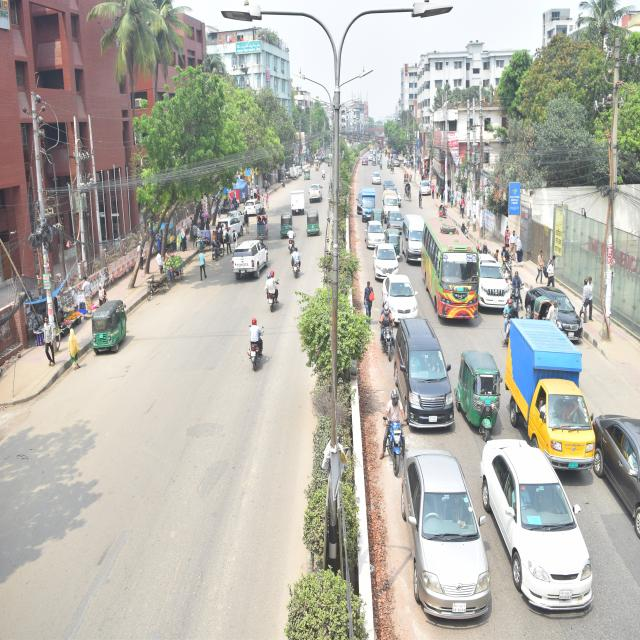bus: (420, 222, 484, 322)
car: (479, 428, 597, 624), (403, 445, 492, 630), (598, 408, 640, 554), (527, 284, 583, 344), (383, 277, 420, 321), (375, 240, 404, 286), (364, 218, 386, 248), (221, 213, 243, 240), (244, 196, 263, 217), (386, 214, 406, 232), (419, 179, 432, 201), (372, 170, 381, 187)
microbus: (399, 317, 454, 434), (480, 251, 509, 322), (234, 236, 271, 285), (405, 210, 424, 268), (382, 191, 402, 212), (309, 182, 324, 205)
motorbike: (384, 407, 407, 478), (246, 323, 266, 376), (382, 317, 397, 365), (504, 308, 524, 342), (262, 278, 280, 310), (290, 246, 300, 278), (511, 277, 522, 305), (286, 225, 294, 246)
pickup-van: (502, 317, 598, 483), (286, 182, 308, 220), (361, 188, 380, 229)
